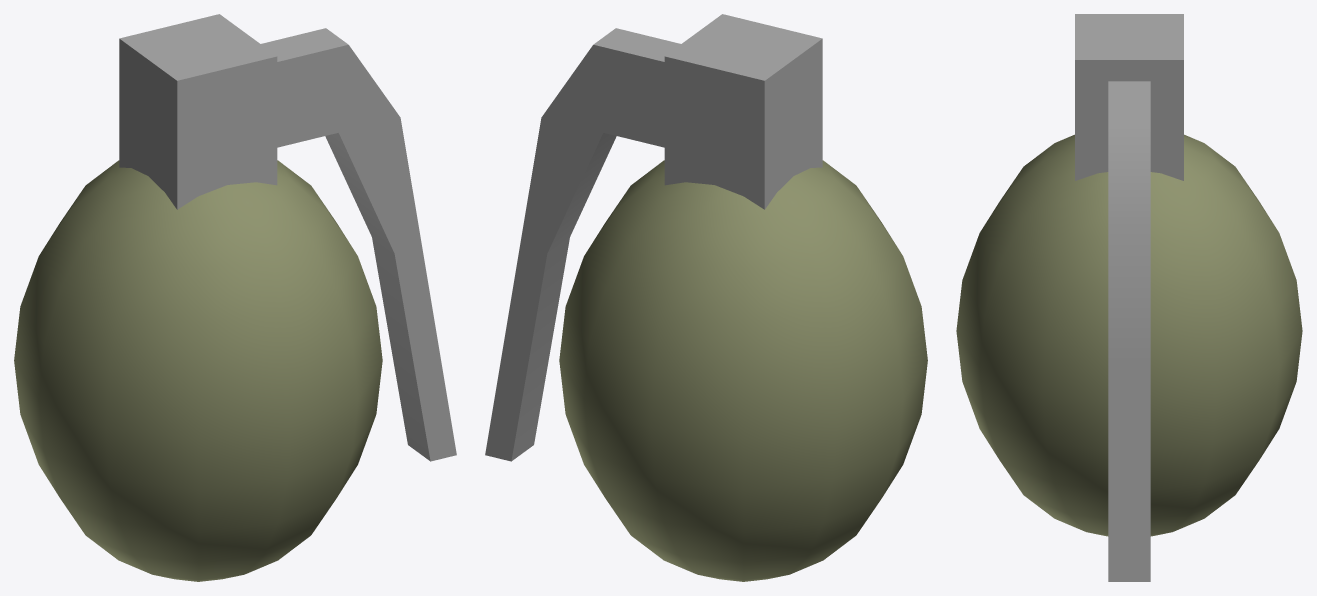
The model's file is Grenade.fbx.
3 renders of one model, left to right at view 1: azimuth 30°, elevation 25°; view 2: azimuth 150°, elevation 25°; view 3: azimuth 270°, elevation 25°, orthographic. The views are drawn at different scales.
Parts seen in each view (by area): view 1: Grenade; view 2: Grenade; view 3: Grenade.
Part boxes in pixels (bbox=[...]): Grenade: bbox=[14, 14, 456, 581]; Grenade: bbox=[485, 14, 927, 581]; Grenade: bbox=[956, 14, 1302, 581].
Bounding box in the file's own units: 33.23 × 40.71 × 26.08.
